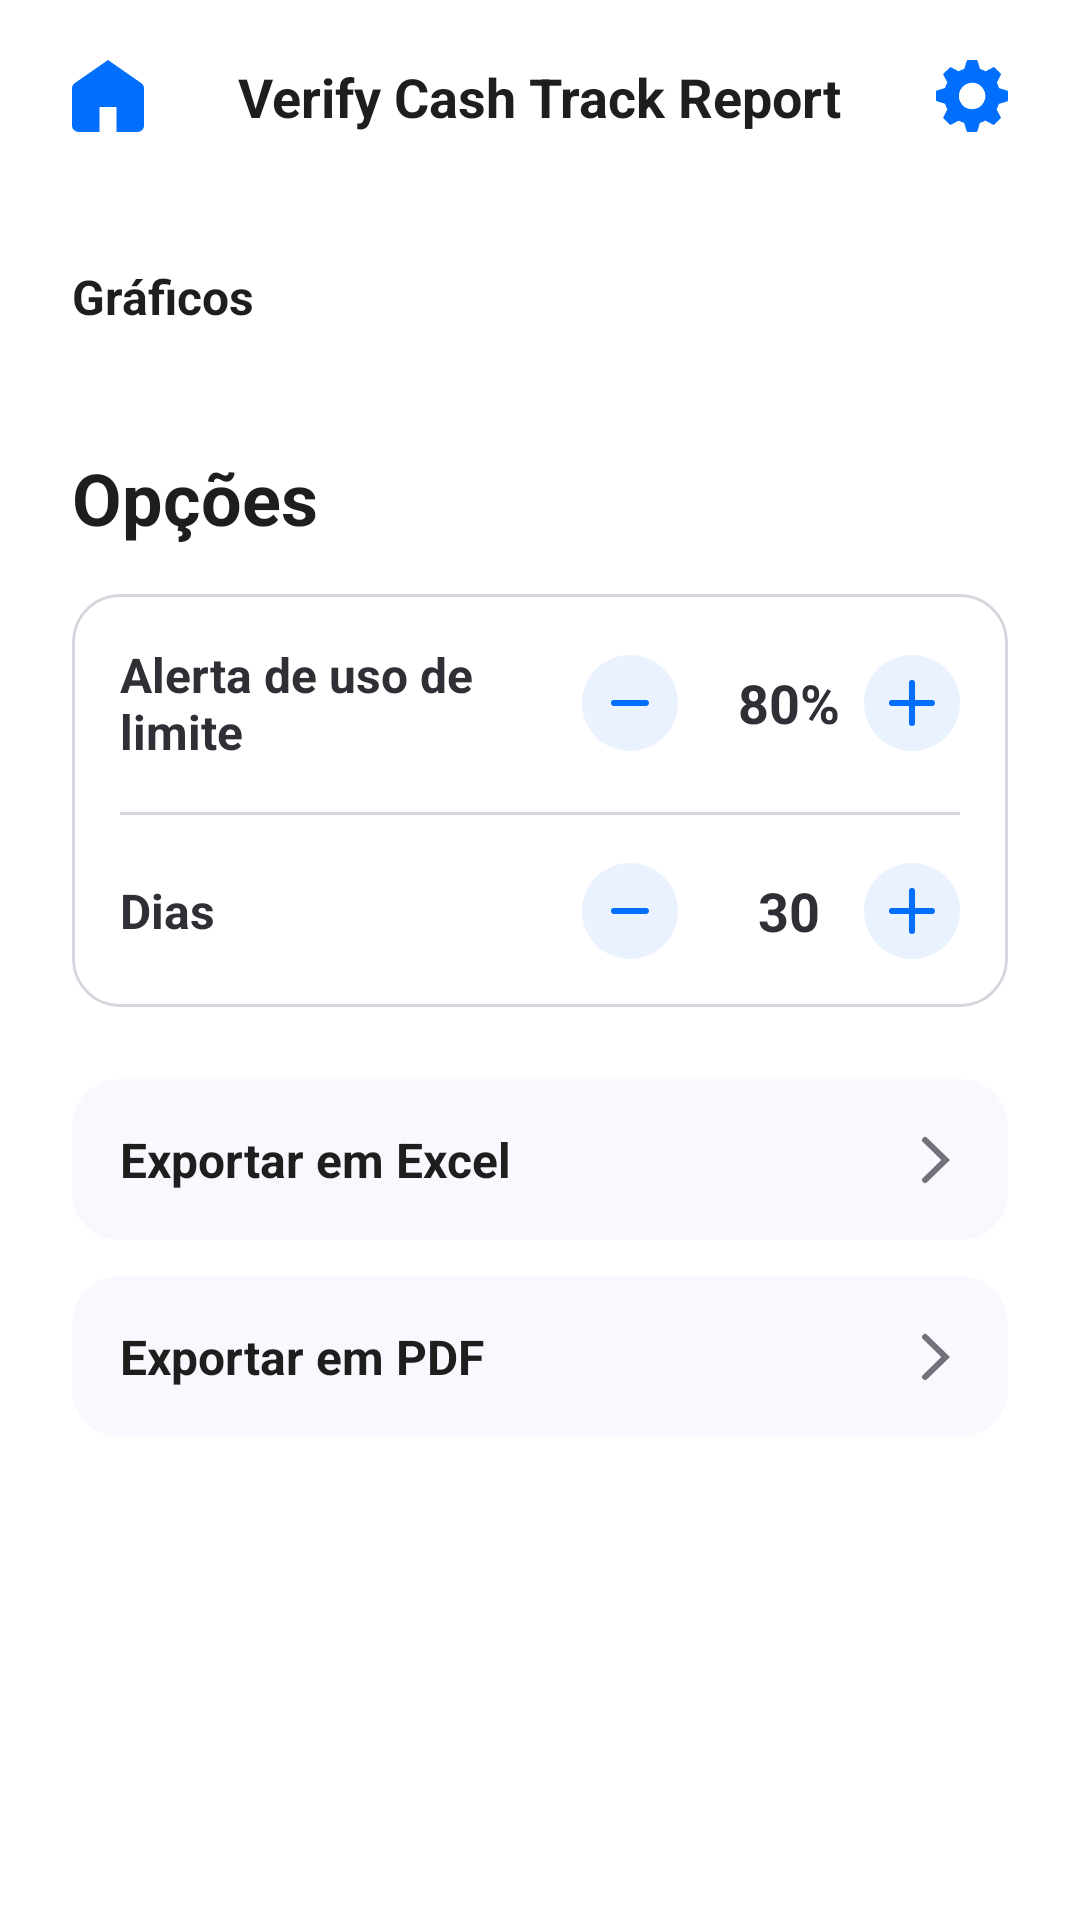

Where icons sit on this 1080*1920 app screen, as [x1,y1,x2,y2]:
Configurações: [936,60,1008,132]
Home: [72,60,144,132]
plus: [864,655,960,751], [864,863,960,959]
right: [922,1137,950,1183], [922,1334,950,1380]
